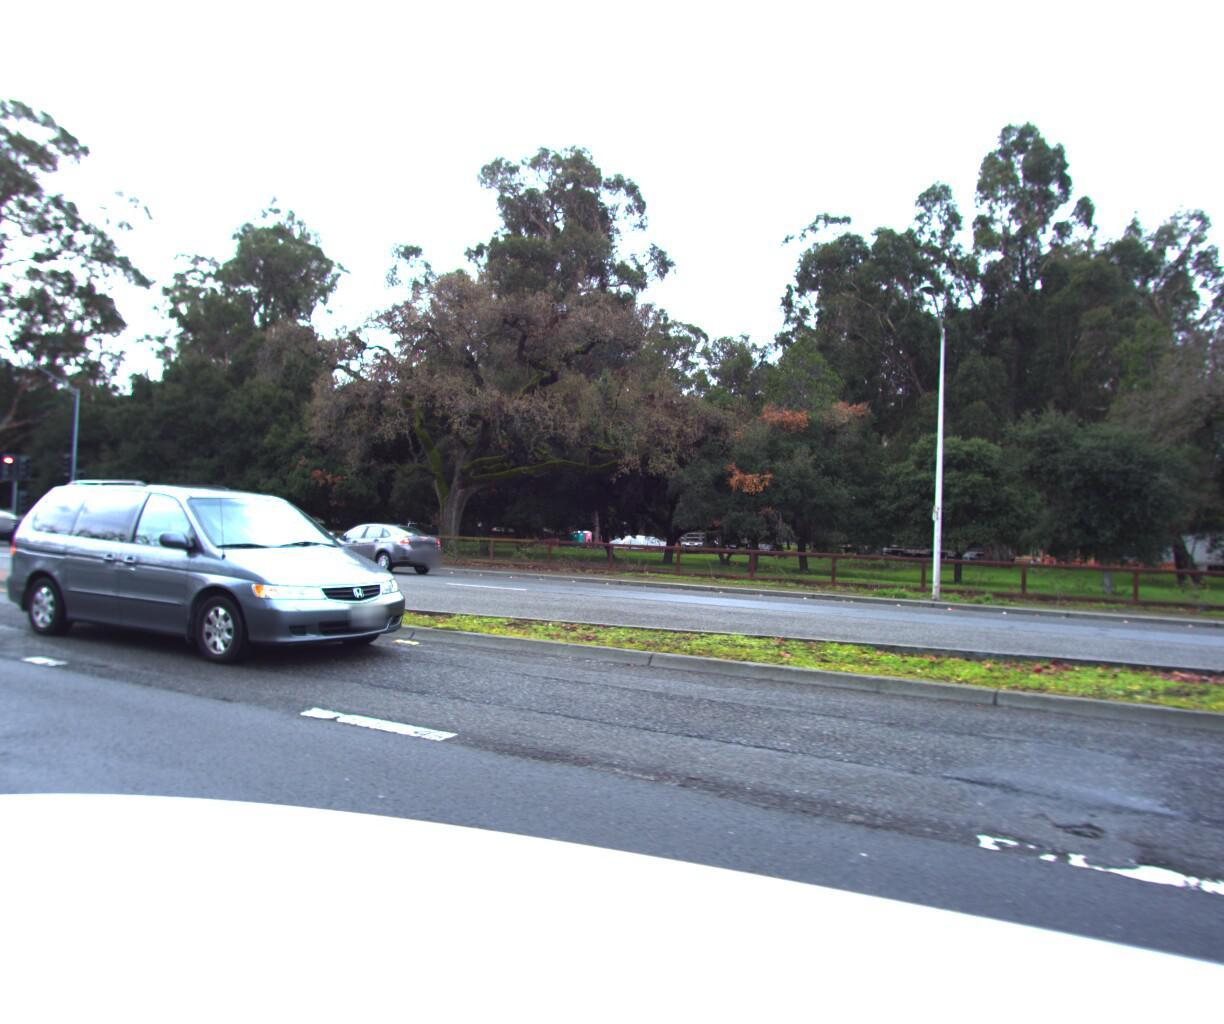car: (0, 472, 417, 683), (303, 523, 451, 580), (0, 508, 36, 550)
